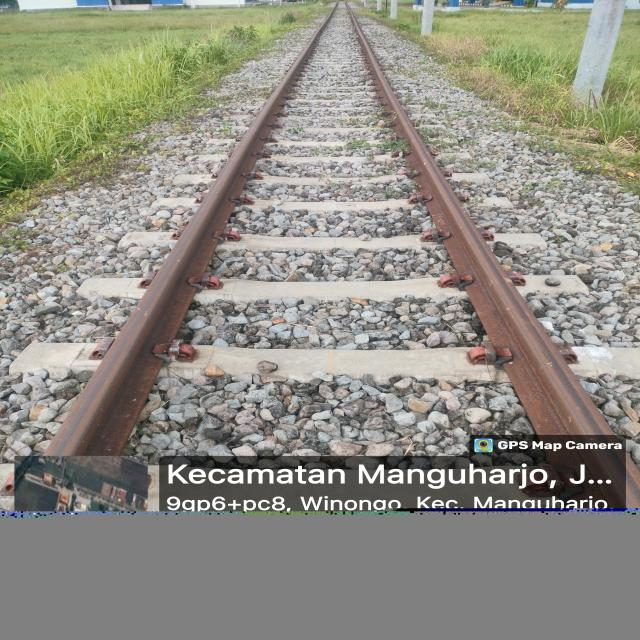rail-detection: (350, 12, 640, 507), (46, 10, 334, 455)
